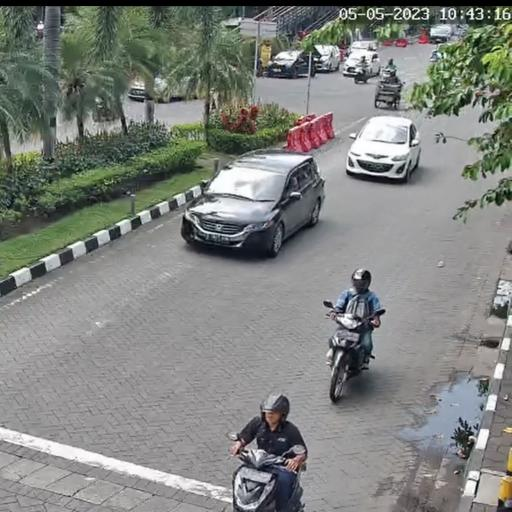mobil: (179, 149, 326, 259), (343, 112, 422, 186)
motor: (322, 298, 388, 408), (226, 425, 307, 512)
